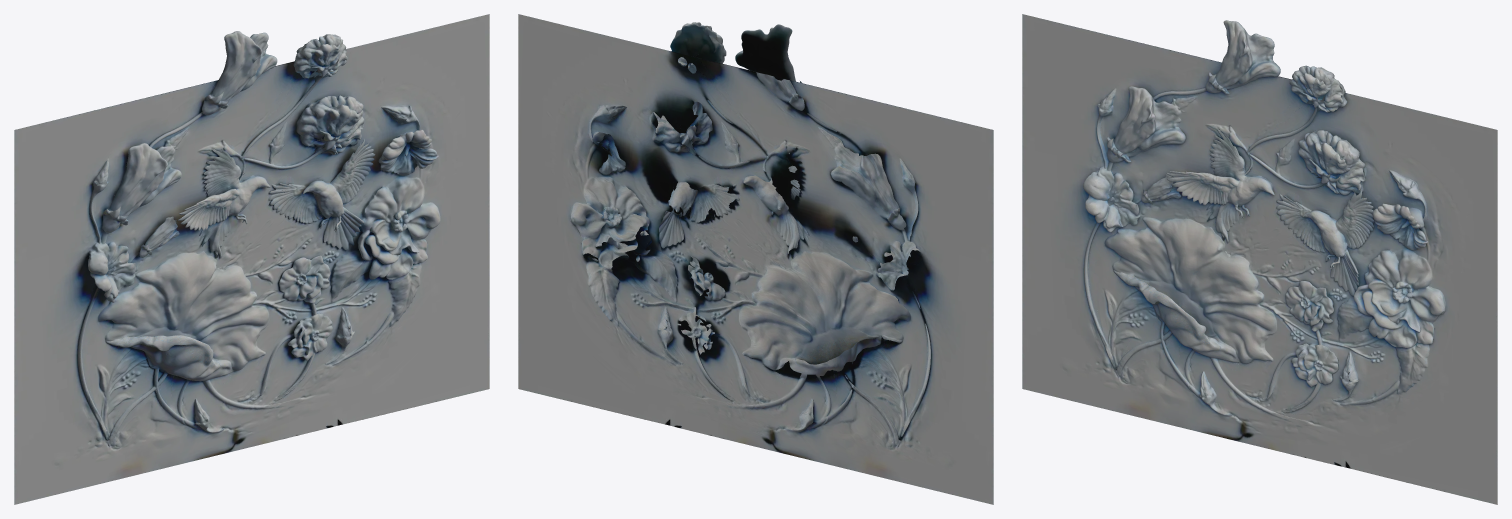
Rendered from bgXXS.glb.
The picture shows the model from 3 angles, left to right: view 1: azimuth 30°, elevation 25°; view 2: azimuth 150°, elevation 25°; view 3: azimuth 330°, elevation 25°; orthographic projection.
Parts seen in each view (by area): view 1: bird_01; view 2: bird_01; view 3: bird_01.
Boxes of the visible parts, box(x1,y1,x2,y2) form: bird_01: box(14, 14, 489, 504); bird_01: box(518, 14, 993, 504); bird_01: box(1022, 14, 1497, 504).
Size of the model in its own units: 13.25 by 11.29 by 0.782.
Materials: 1 (1 with a texture image).
